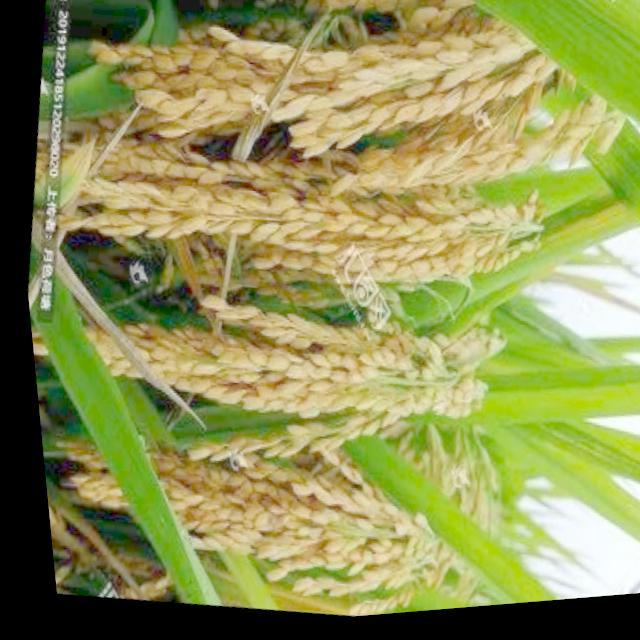Padi: (50, 418, 542, 596), (72, 122, 578, 276), (90, 8, 584, 164), (70, 288, 530, 438)
